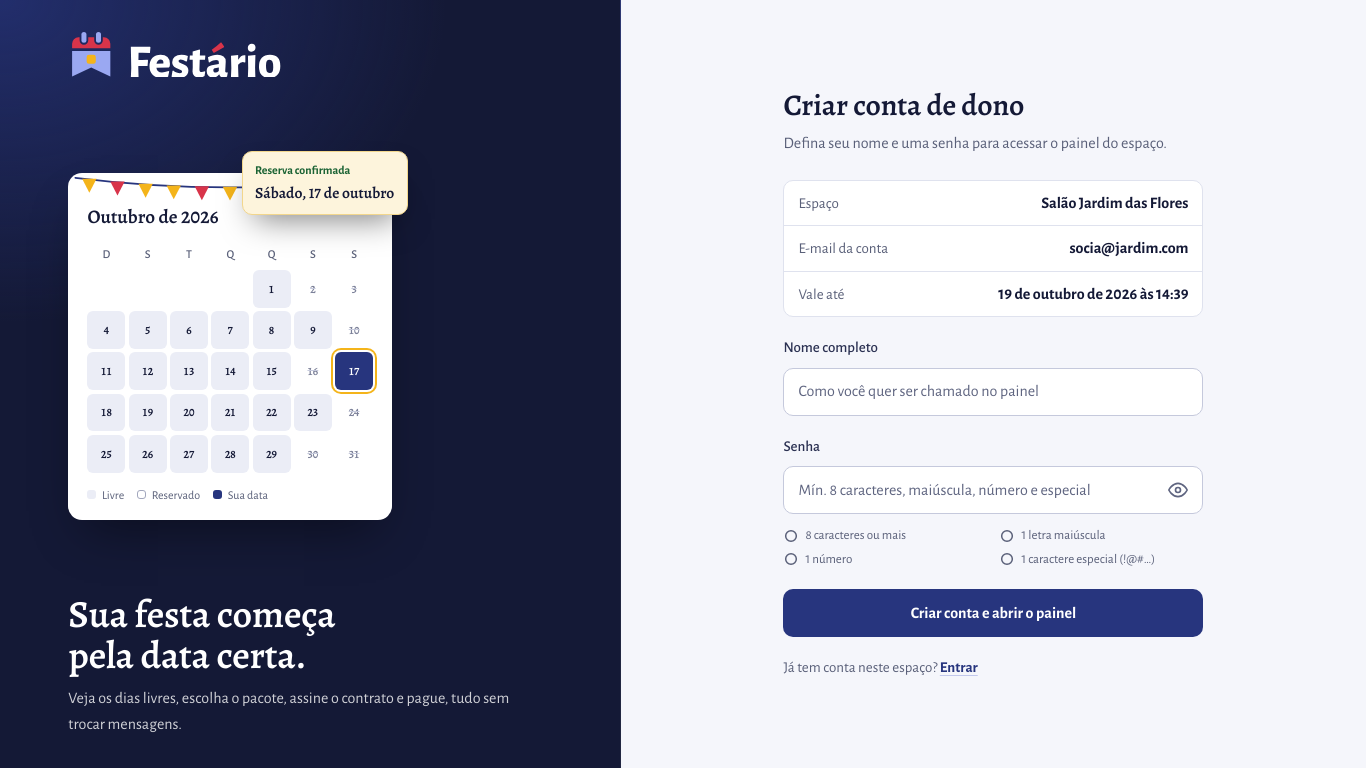
Test: InviteAccept - aceite › shows TENANT_INACTIVE guidance
Type "Sócia Nova" into the field labelled "Nome completo" at (993, 392), box [783, 368, 1203, 416]
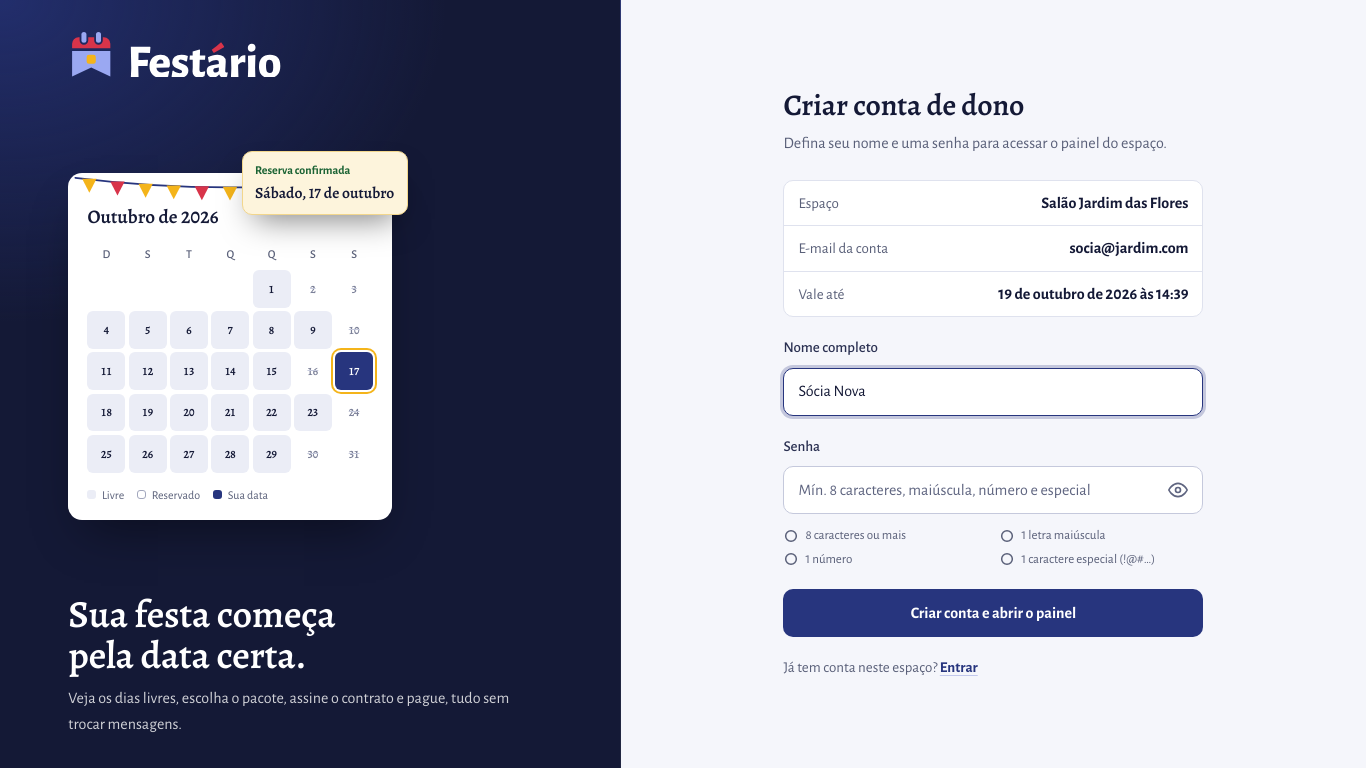
Type "Senha@123" into the password field labelled "Senha" at (979, 490), box [798, 467, 1160, 513]
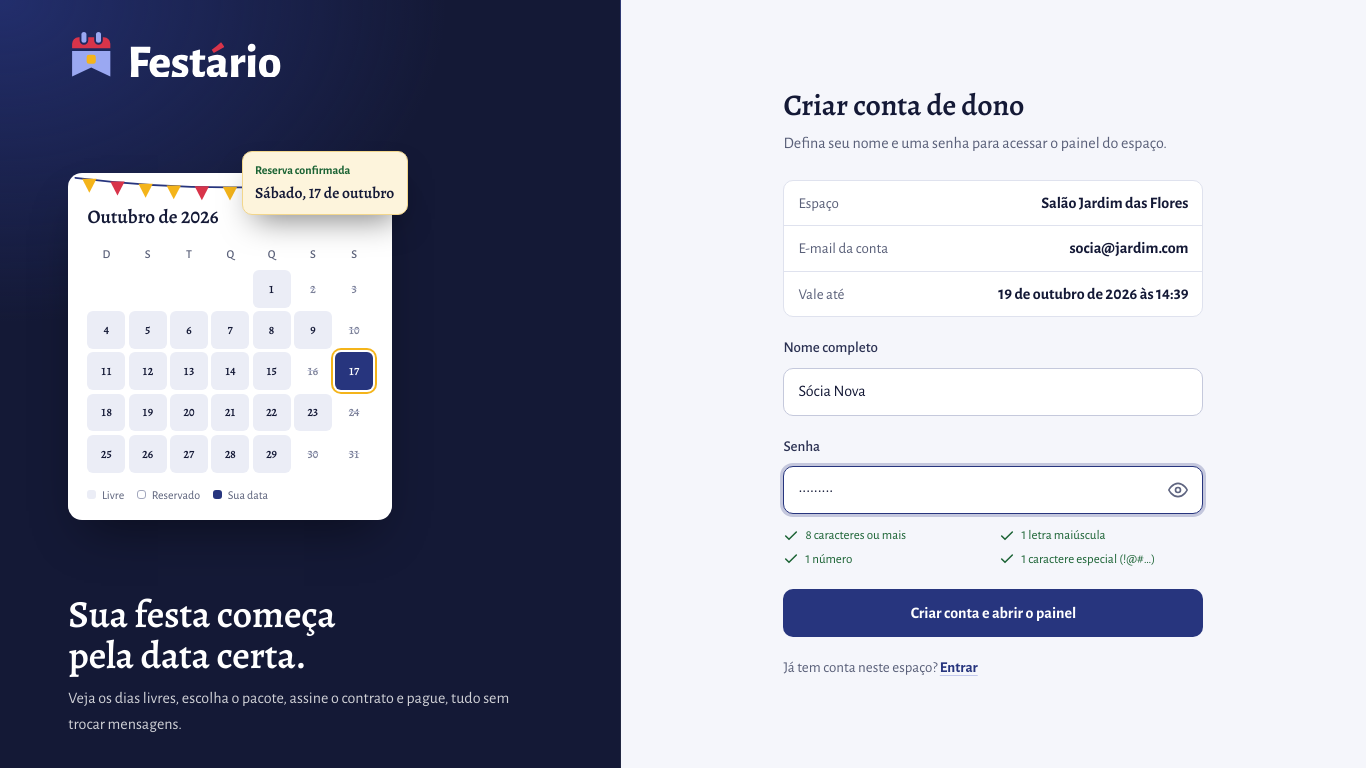
Click the button "Criar conta e abrir o painel" at (993, 613), box [783, 589, 1203, 637]
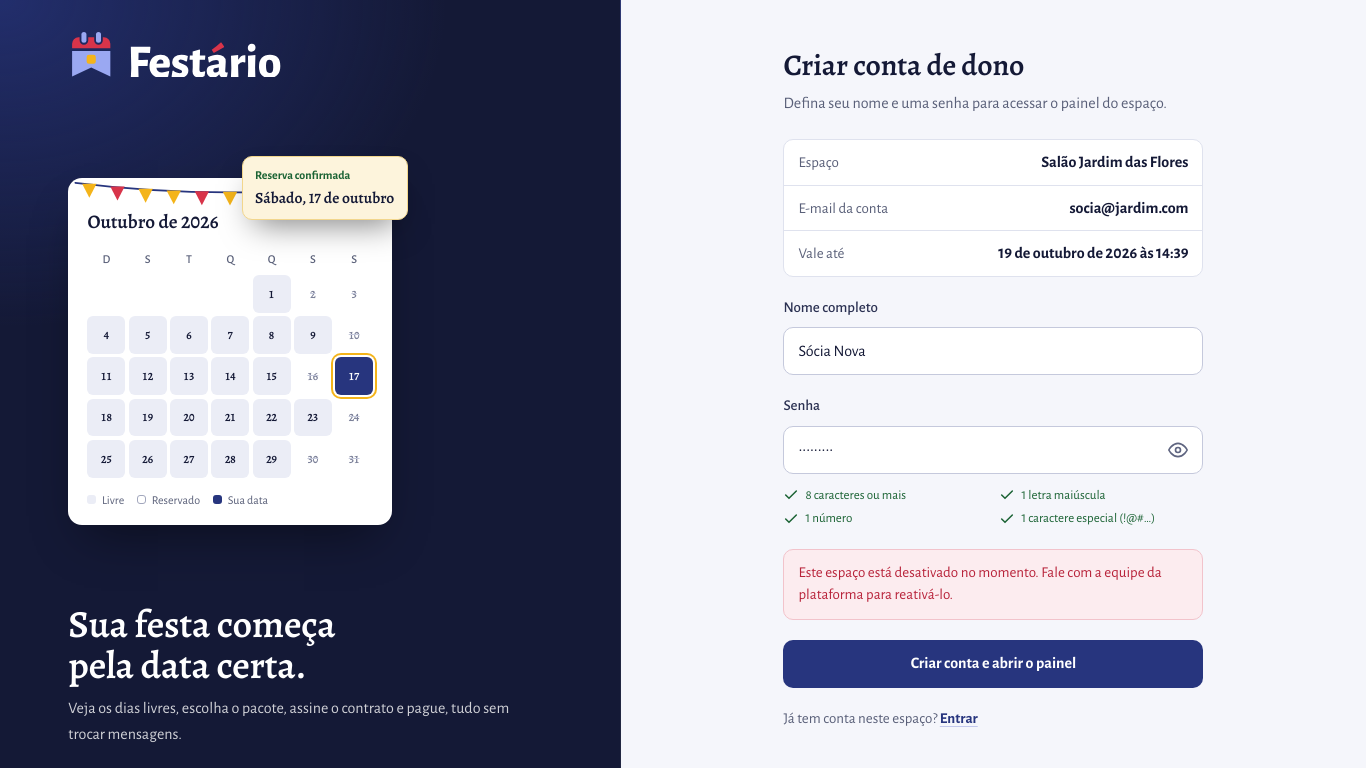
Now the text "espaço está desativado" is shown, box [798, 565, 1162, 602]
